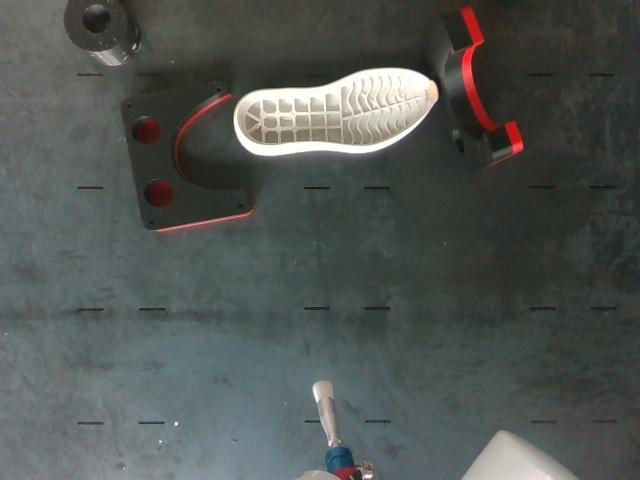shoes: (238, 69, 437, 145)
